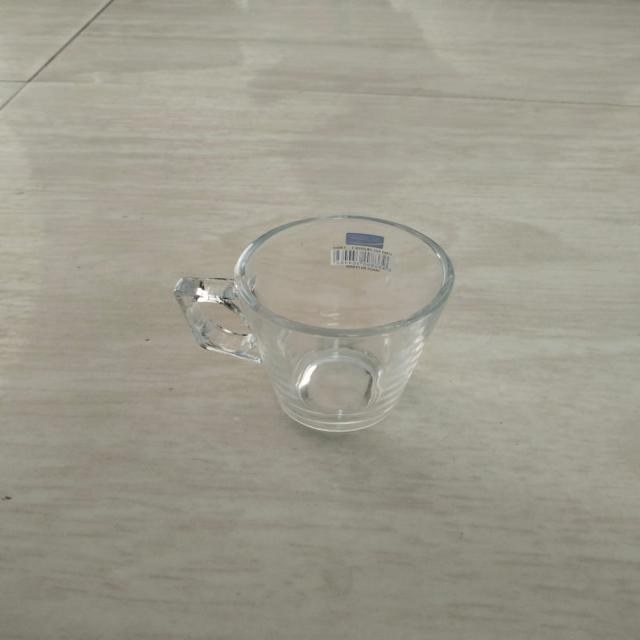glass-VX4N: (175, 213, 456, 433)
